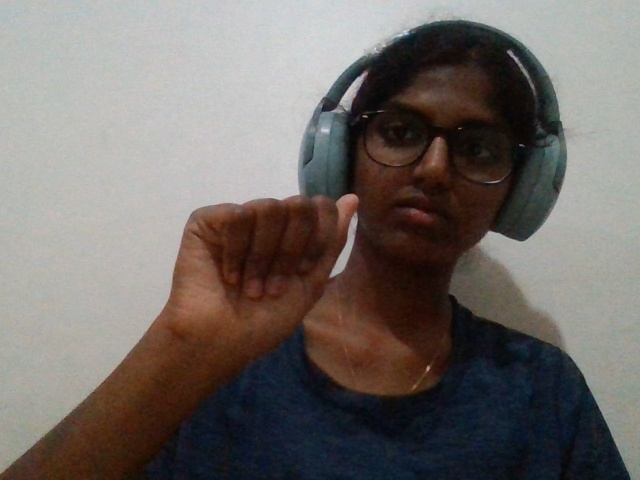A: (99, 170, 369, 442)
